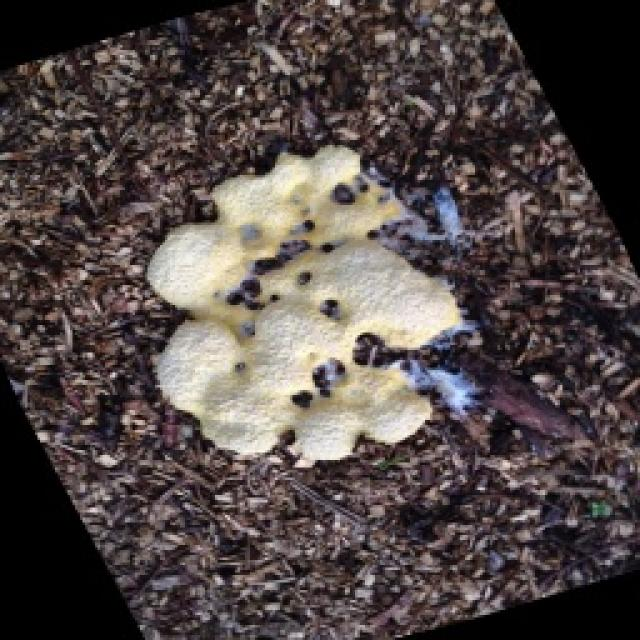Dog_vomit_slime_mold: (128, 111, 546, 518)
